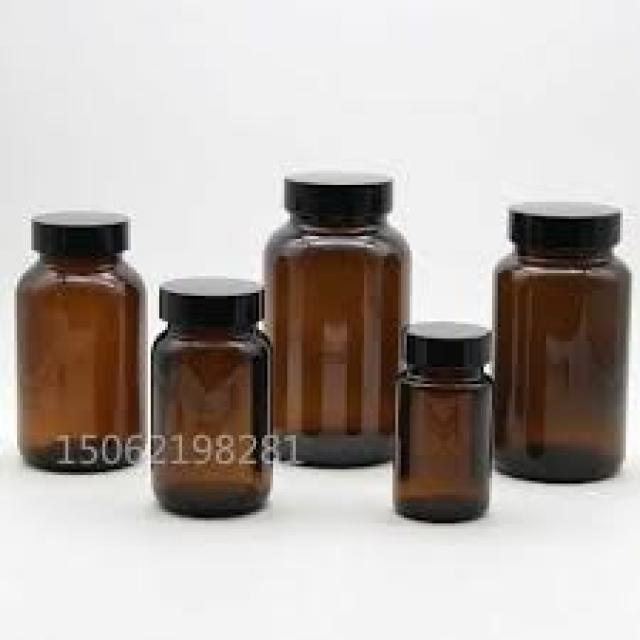glass: (262, 211, 407, 470), (492, 248, 629, 484), (12, 253, 143, 472), (148, 321, 273, 518), (393, 364, 489, 521)
metal: (507, 199, 618, 250), (156, 276, 259, 330), (282, 168, 390, 219), (29, 210, 125, 259), (399, 319, 487, 367)
